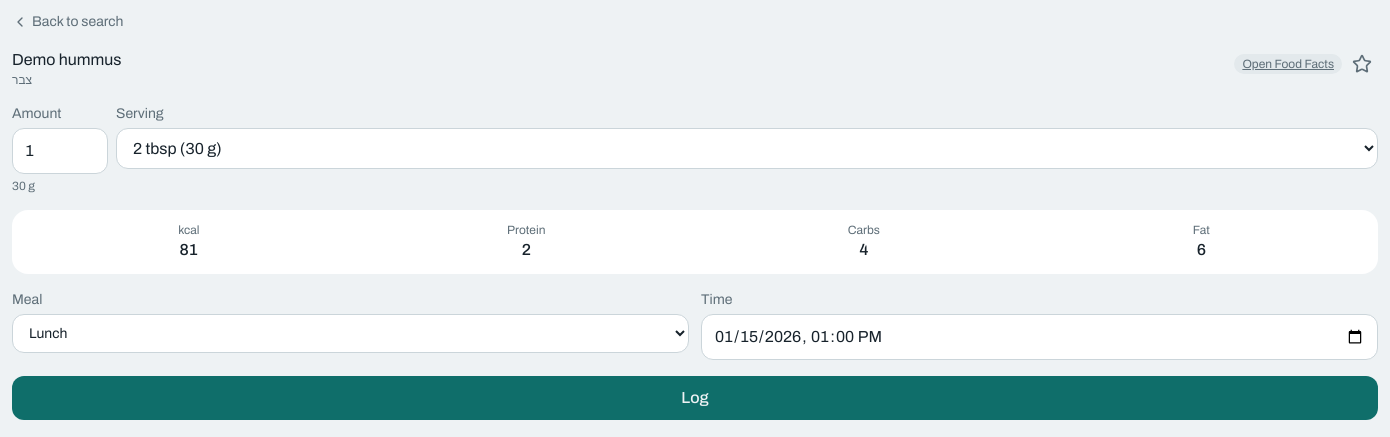
Test case: FoodDetail › disables Log while the amount is invalid
The width and height of the screenshot is (1390, 437).
Clear the field labelled "Amount" at (60, 151), box [12,128,108,174]
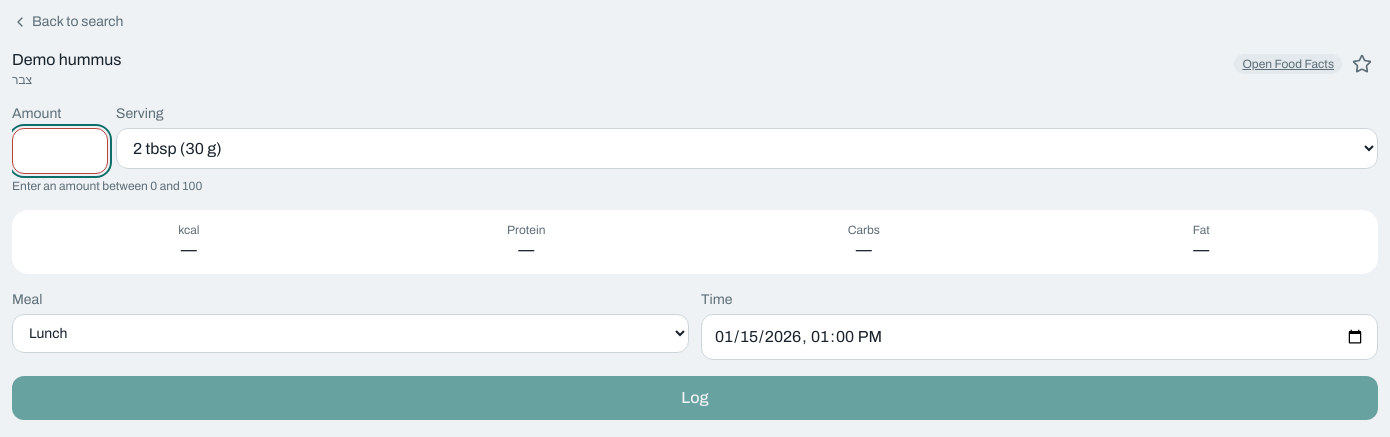
Result: the button "Log" is disabled at [12,376,1378,420]
